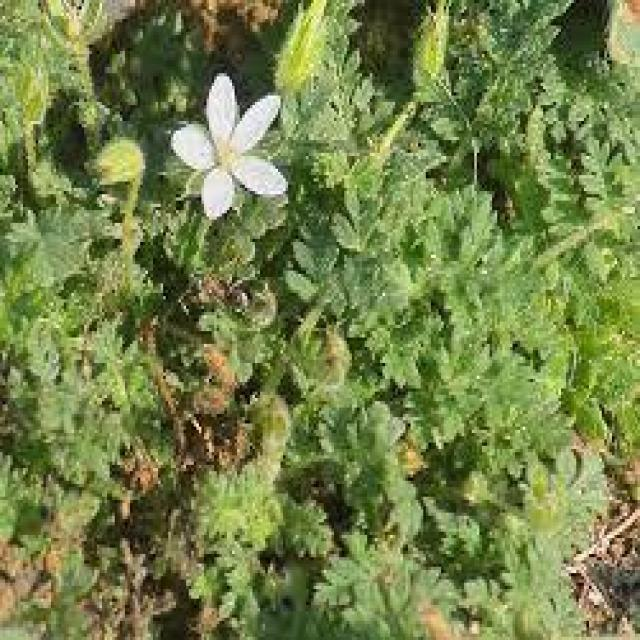organic waste: (166, 64, 303, 223)
